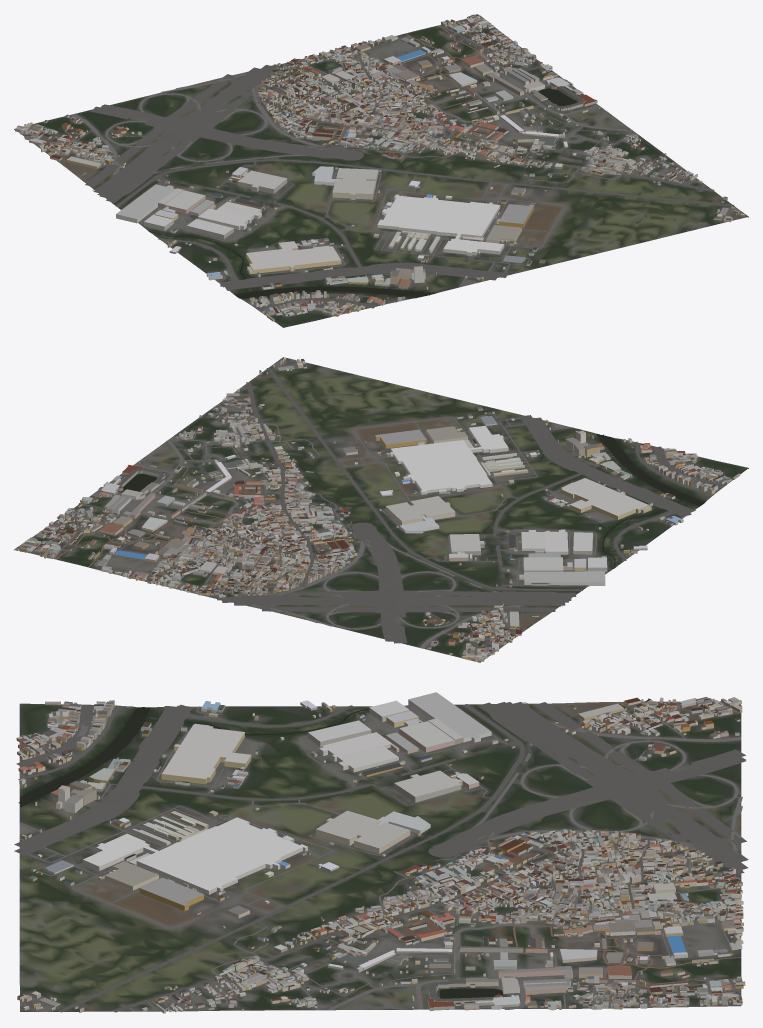
The picture shows the model from 3 angles, top to bottom: view 1: azimuth 30°, elevation 25°; view 2: azimuth 150°, elevation 25°; view 3: azimuth 270°, elevation 25°; orthographic projection. The views are drawn at different scales.
Parts seen in each view (by area): view 1: ground, buildings, roads, water; view 2: ground, buildings, roads, water; view 3: ground, buildings, roads, water.
Boxes of the visible parts, bbox=[...] form: ground: bbox=[14, 17, 748, 327]; buildings: bbox=[15, 14, 744, 321]; roads: bbox=[23, 15, 741, 315]; water: bbox=[149, 88, 577, 298]; ground: bbox=[14, 357, 748, 662]; buildings: bbox=[15, 357, 740, 661]; roads: bbox=[14, 362, 725, 657]; water: bbox=[123, 433, 704, 567]; ground: bbox=[19, 701, 741, 1011]; buildings: bbox=[16, 692, 745, 1013]; roads: bbox=[14, 701, 748, 1012]; water: bbox=[18, 707, 502, 998].
Size of the model in its own units: 1444 by 43.25 by 1427.
